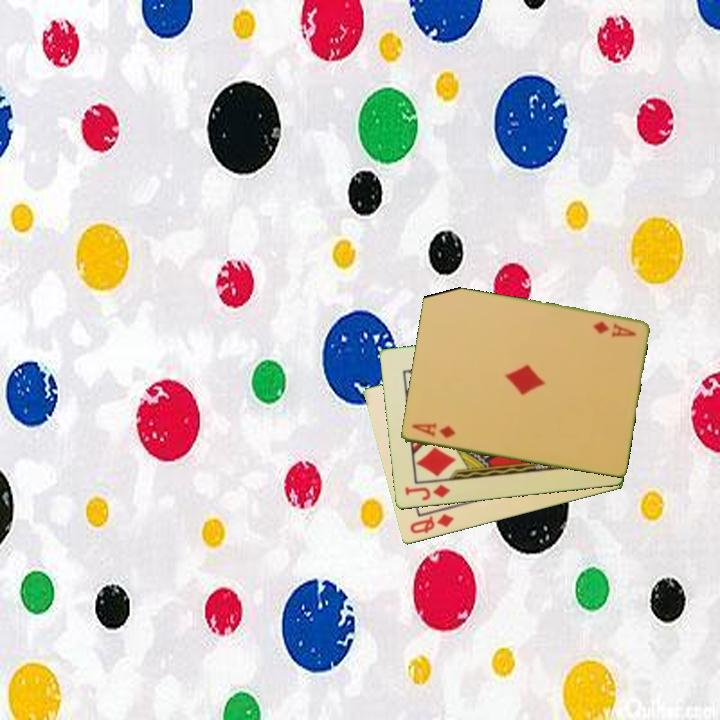Ad: (589, 318, 639, 340), (408, 420, 458, 441)
Jd: (401, 481, 453, 504)
Qd: (406, 511, 457, 537)
